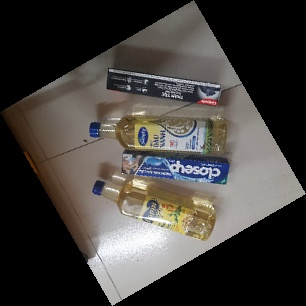CloseUp Tuyet: (120, 152, 231, 188)
Colgate Than: (105, 67, 224, 109)
Happy Soya: (91, 179, 216, 243)
Simply: (89, 113, 229, 153)
